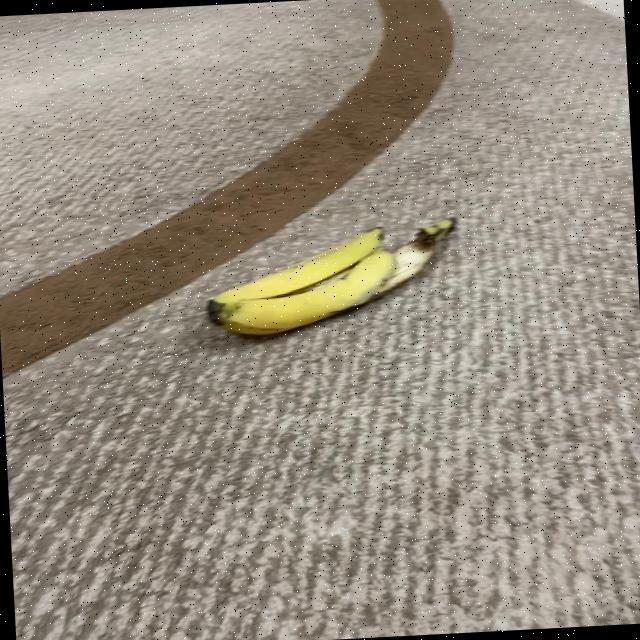banana-peel: (201, 215, 461, 340)
